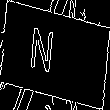N_S: (41, 27, 69, 83)
